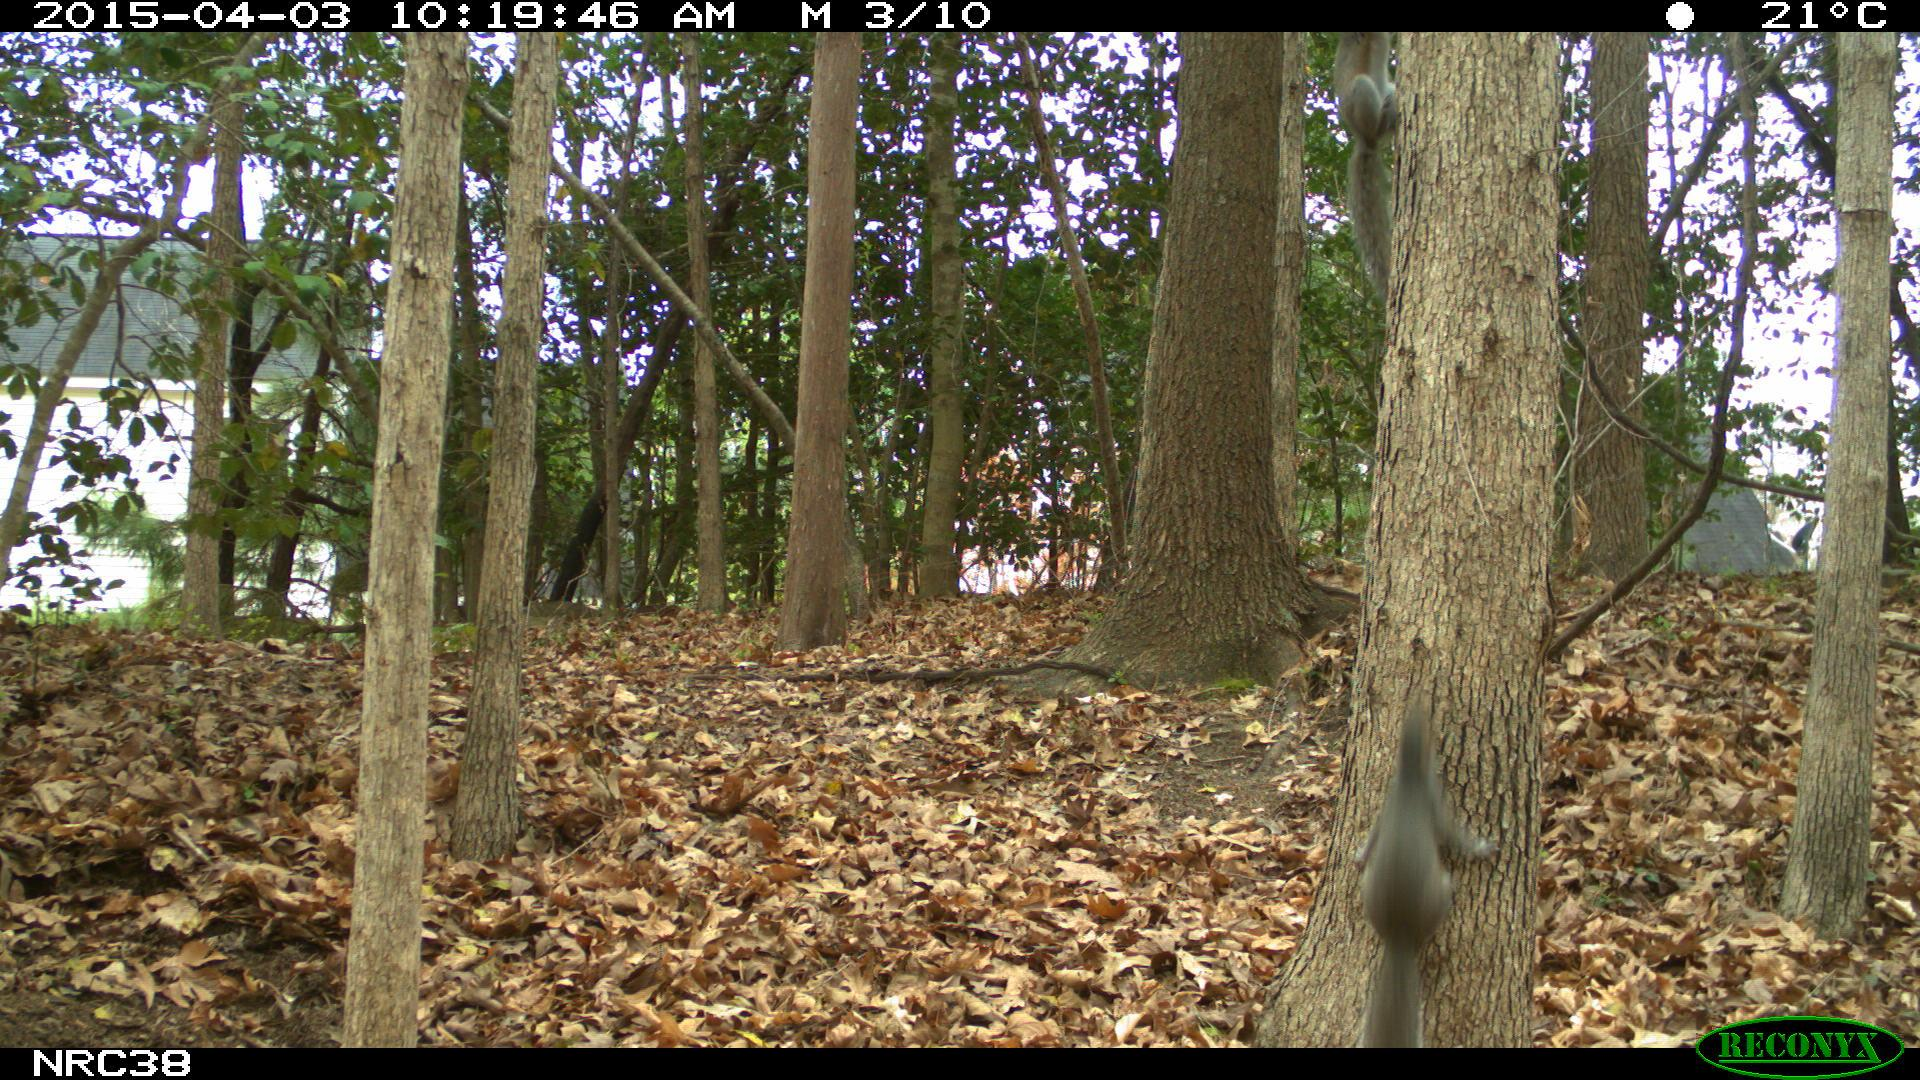Animal: (1353, 698, 1491, 1052)
